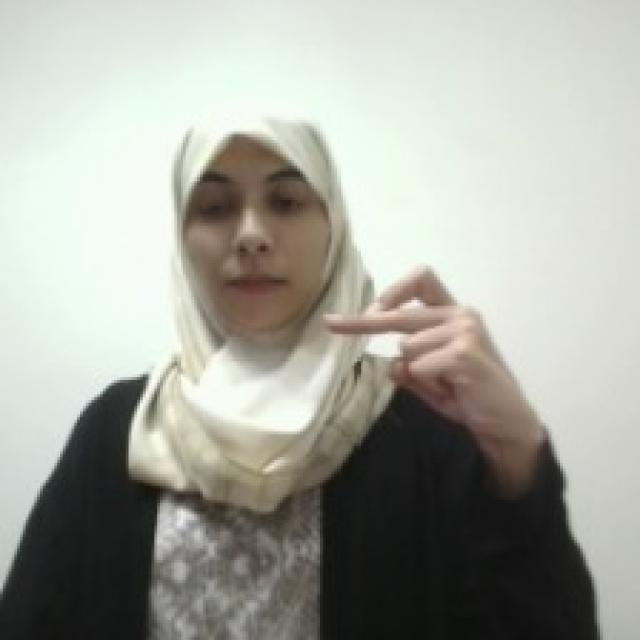sunday: (319, 257, 505, 425)
